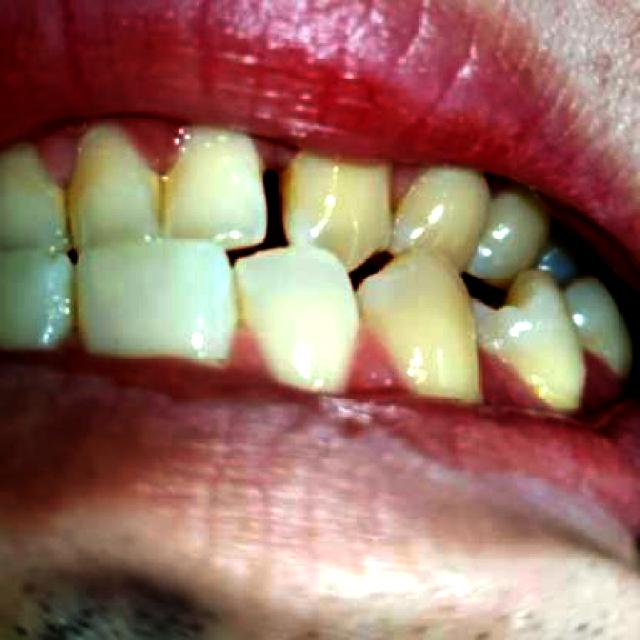Plaque: (100, 94, 196, 190), (560, 335, 624, 405), (468, 340, 524, 420)
